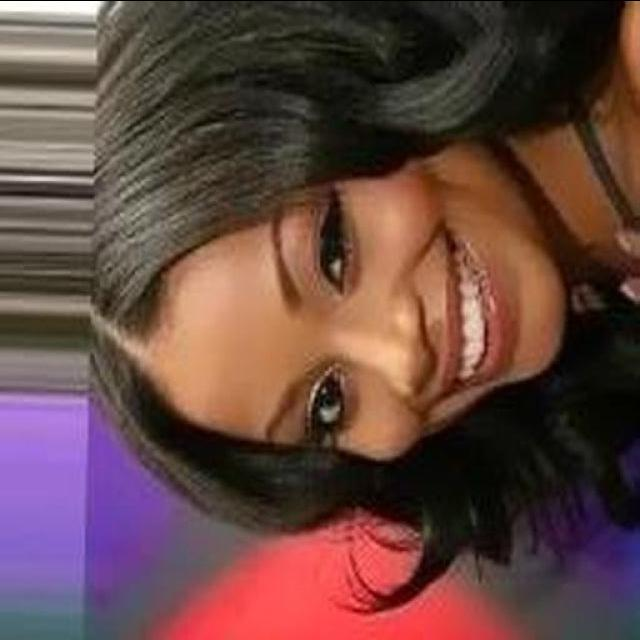bareface: (121, 0, 564, 479)
